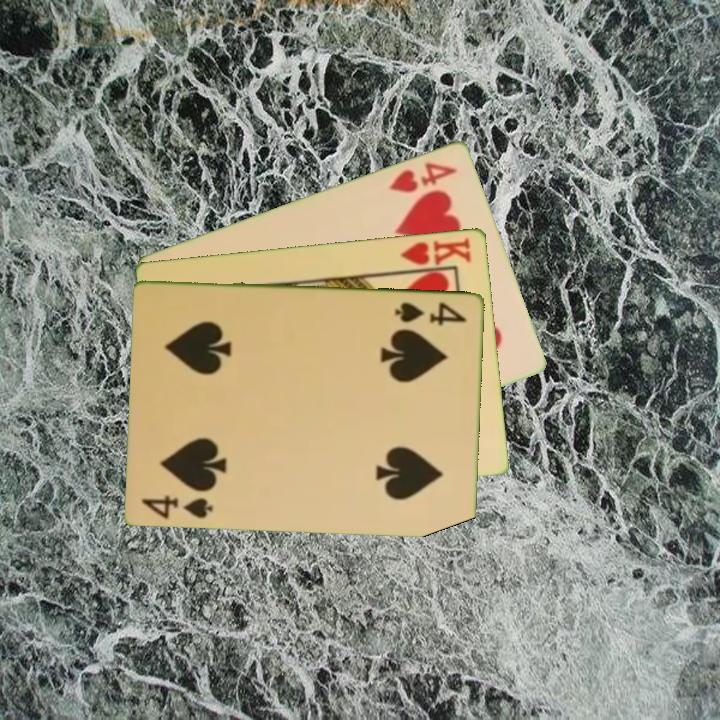4h: (385, 158, 460, 195)
4s: (392, 298, 470, 328), (138, 491, 216, 521)
Kh: (394, 234, 475, 274)
